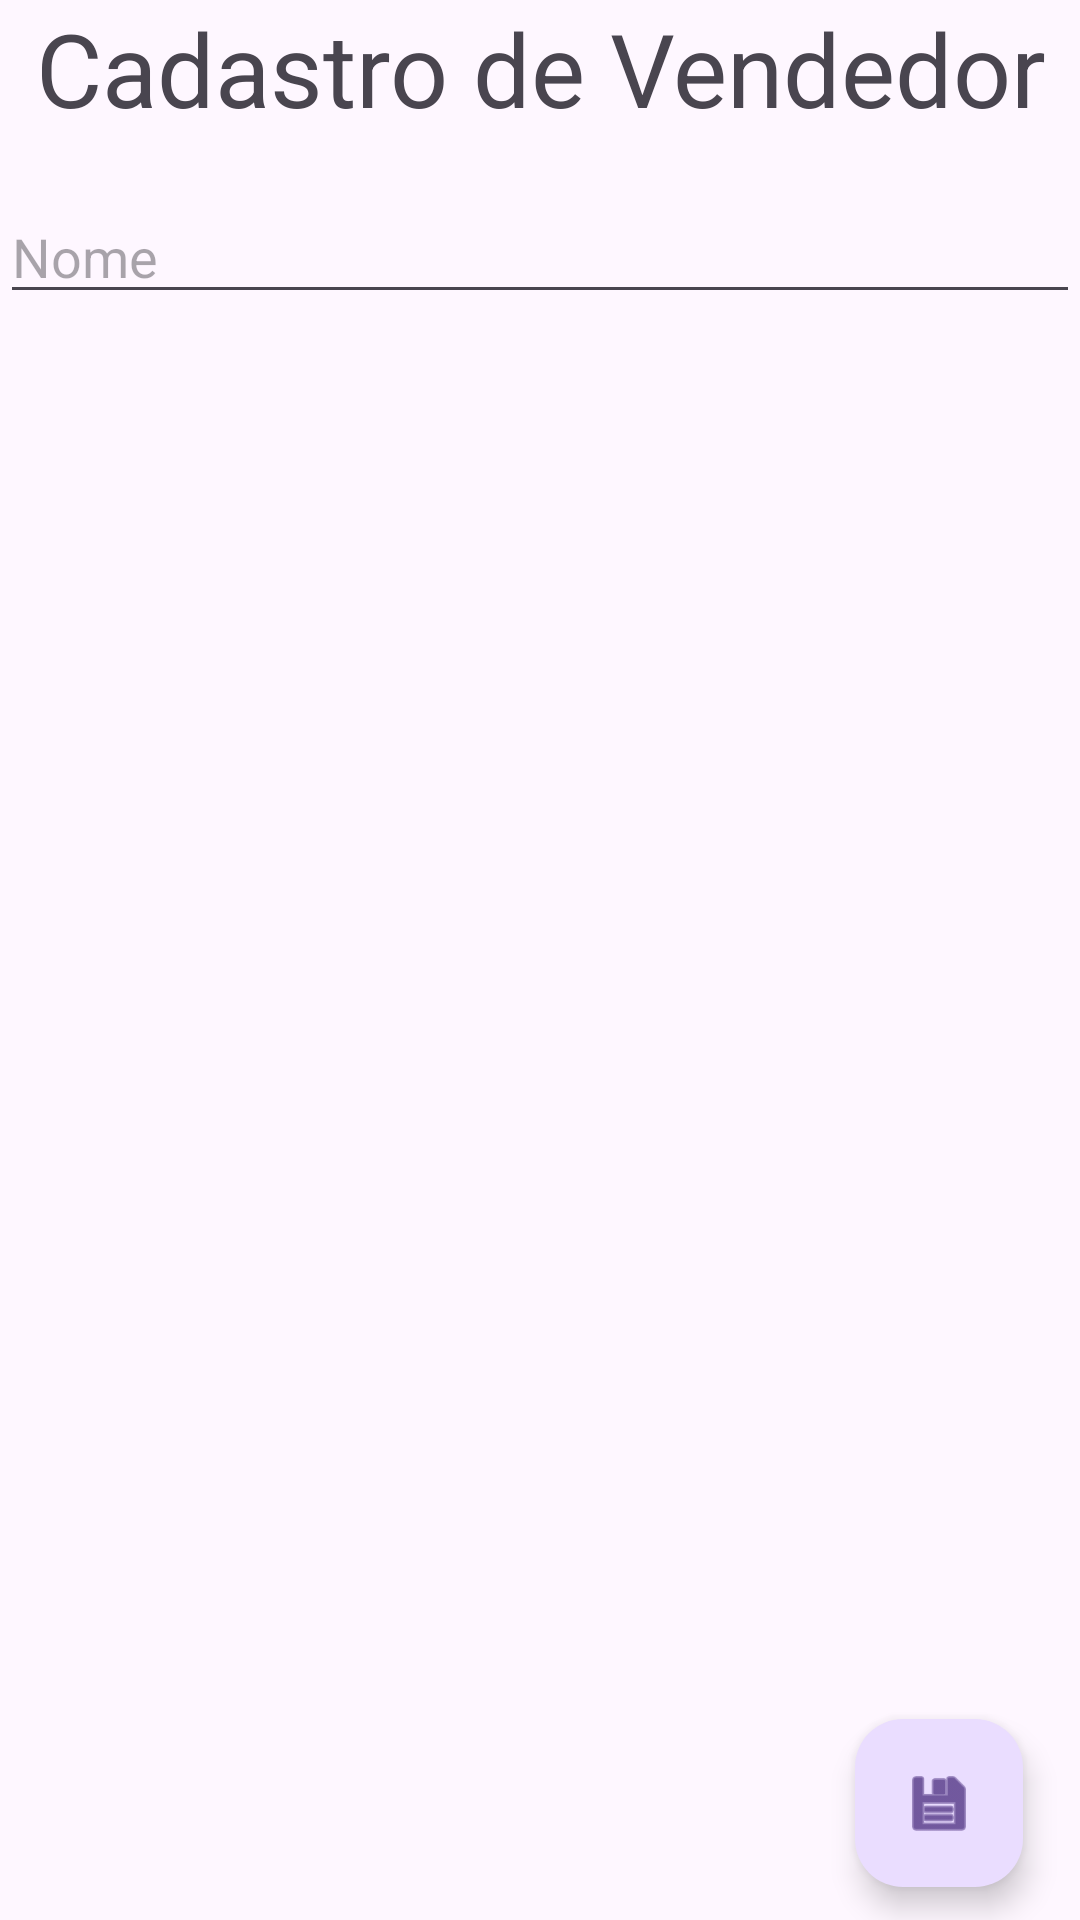

Icons on this 1080 x 1920 Android screen, each with the point to tap as [x,y]:
save: [939,1803]
